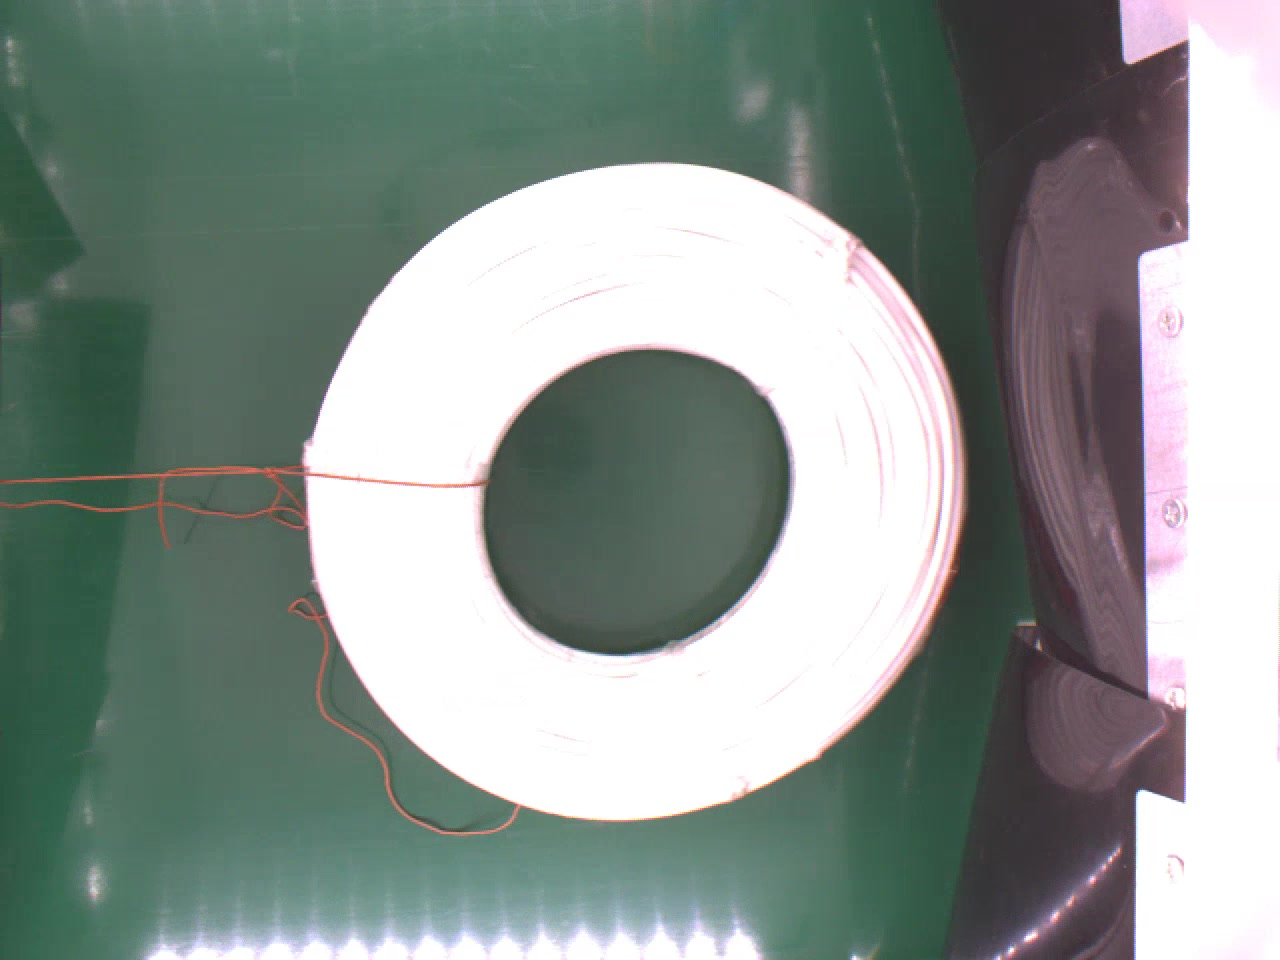white: (298, 151, 967, 823)
